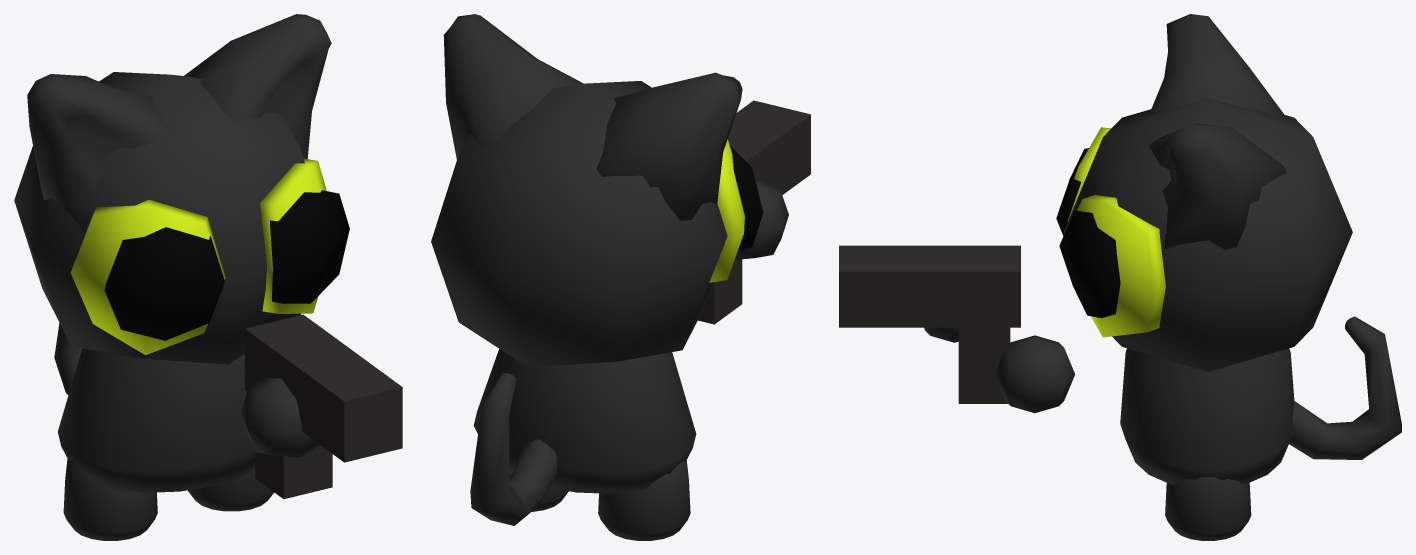
Rendered from Player_Model.glb.
3 views of the same model, side by side, from view 1: azimuth 30°, elevation 25°; view 2: azimuth 150°, elevation 25°; view 3: azimuth 270°, elevation 25° (orthographic). The views are drawn at different scales.
Parts seen in each view (by area): view 1: Cube, Circle, Cube.004, Cube.001, Cube.006, Plane.004, Plane.003, Circle.001, Plane.002, Cube.002, Plane.001, Cube.005 (+1 smaller); view 2: Cube, Circle, Cube.001, Cube.006, Plane, Cube.004, Circle.001, Plane.003, Cube.002, Plane.004, Cube.005; view 3: Cube, Circle, Cube.004, Cube.006, Cube.001, Plane, Plane.001, Circle.001, Cube.003, Plane.002, Cube.005, Plane.004 (+1 smaller).
Part boxes in pixels (box(x1,y1,x2,y2)): Cube: box(14, 72, 304, 364); Circle: box(57, 348, 255, 492); Cube.004: box(245, 314, 402, 462); Cube.001: box(27, 74, 171, 232); Cube.006: box(184, 14, 331, 159); Plane.004: box(104, 227, 224, 340); Plane.003: box(70, 199, 225, 355); Circle.001: box(63, 458, 273, 540); Plane.002: box(269, 190, 349, 303); Cube.002: box(240, 377, 319, 457); Plane.001: box(260, 158, 326, 313); Cube.005: box(255, 445, 332, 499); Cube: box(431, 81, 727, 367); Circle: box(473, 349, 696, 493); Cube.001: box(596, 72, 742, 220); Cube.006: box(443, 14, 583, 159); Plane: box(470, 373, 557, 525); Cube.004: box(728, 100, 810, 194); Circle.001: box(509, 460, 690, 540); Plane.003: box(709, 139, 744, 282); Cube.002: box(735, 181, 788, 259); Plane.004: box(729, 145, 763, 249); Cube.005: box(698, 259, 742, 324); Cube: box(1063, 98, 1352, 371); Circle: box(1120, 348, 1294, 484); Cube.004: box(839, 245, 1020, 327); Cube.006: box(1148, 123, 1286, 249); Cube.001: box(1148, 14, 1286, 118); Plane: box(1289, 316, 1401, 459); Plane.001: box(1077, 195, 1165, 337); Circle.001: box(1165, 477, 1251, 540); Cube.003: box(994, 335, 1075, 413); Plane.002: box(1059, 210, 1120, 318); Cube.005: box(958, 327, 1010, 403); Plane.004: box(1056, 148, 1088, 235).
Size of the model in its own units: 1.82 by 2.75 by 3.27.
